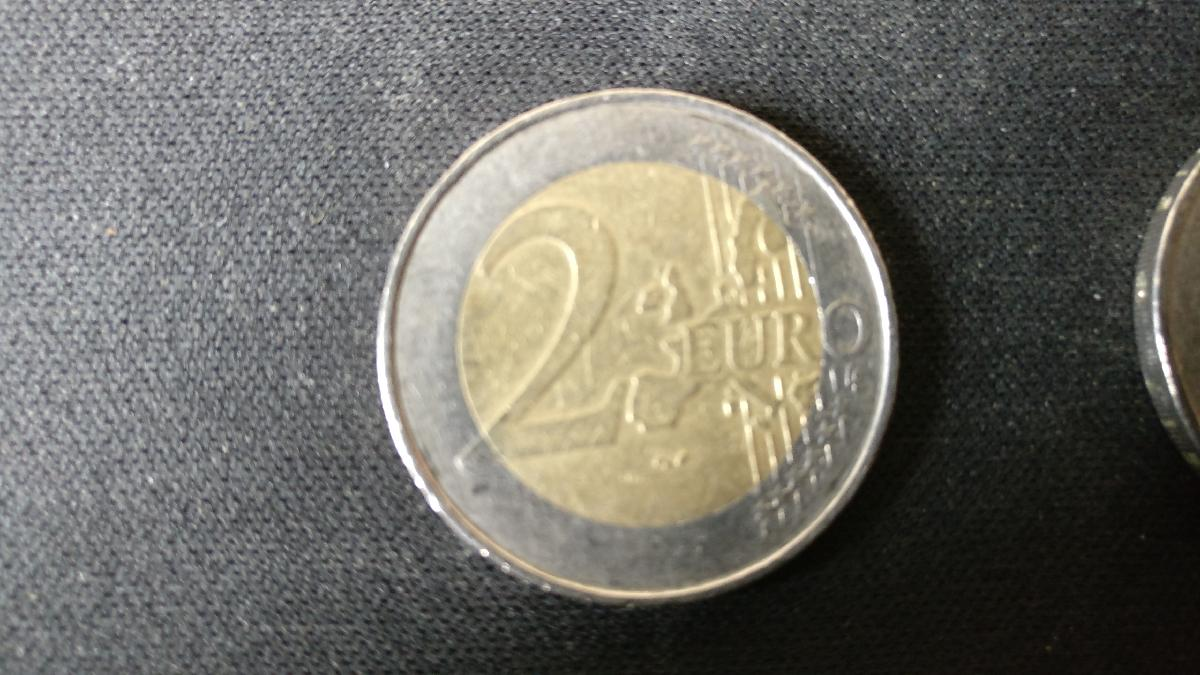Two Euro: (366, 86, 927, 617), (1126, 132, 1200, 478)
